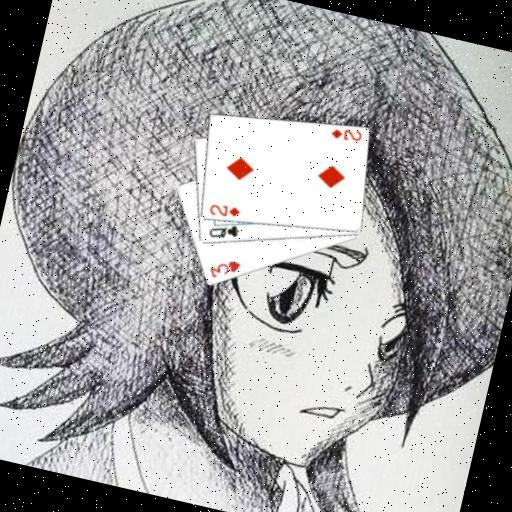2D: (205, 199, 242, 223), (327, 122, 364, 146)
3H: (205, 253, 243, 285)
QC: (205, 217, 242, 245)
